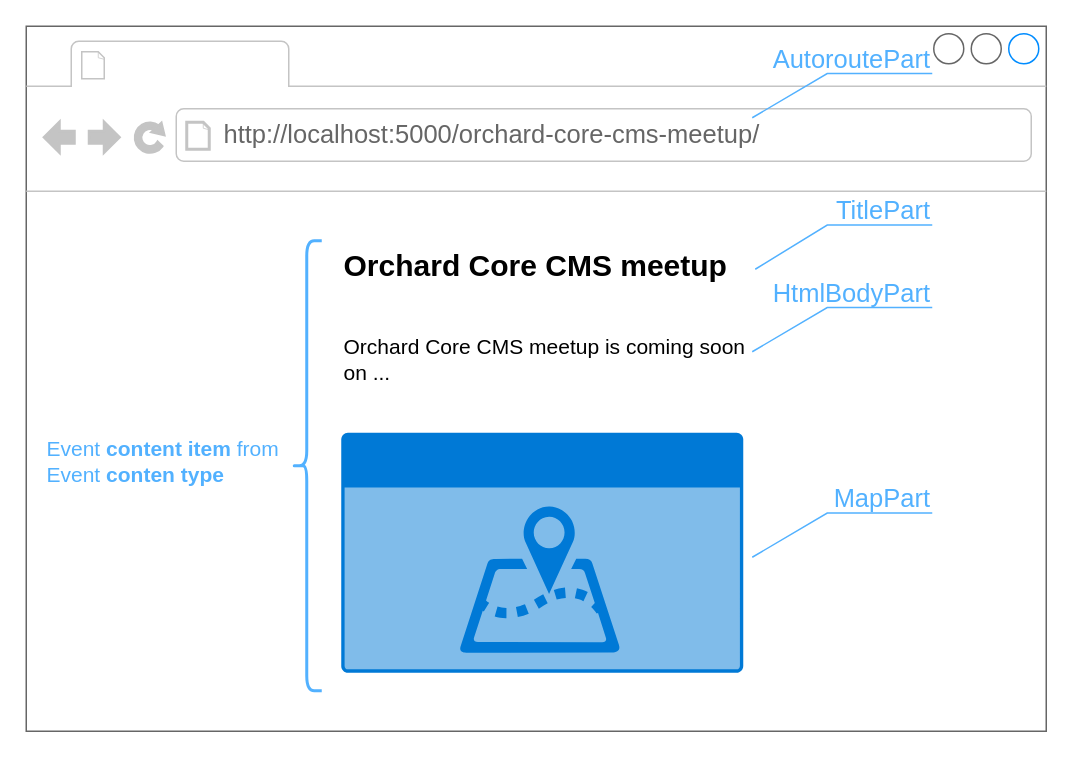
Some shapes in this 1073 by 758 pixel diagram are drawn without their labels. The centre of each missing label's shape, as x and y in pixels:
Map: point (541, 552)
Orchard: point (183, 63)
